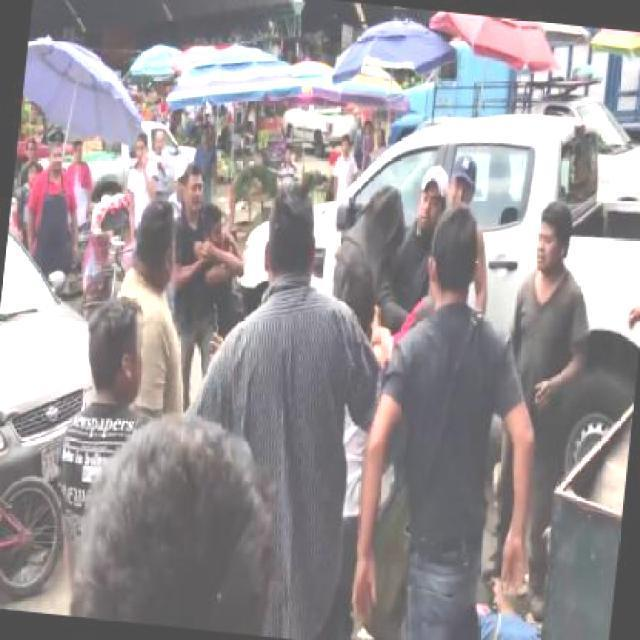fight: (324, 154, 448, 302), (164, 156, 253, 298)
